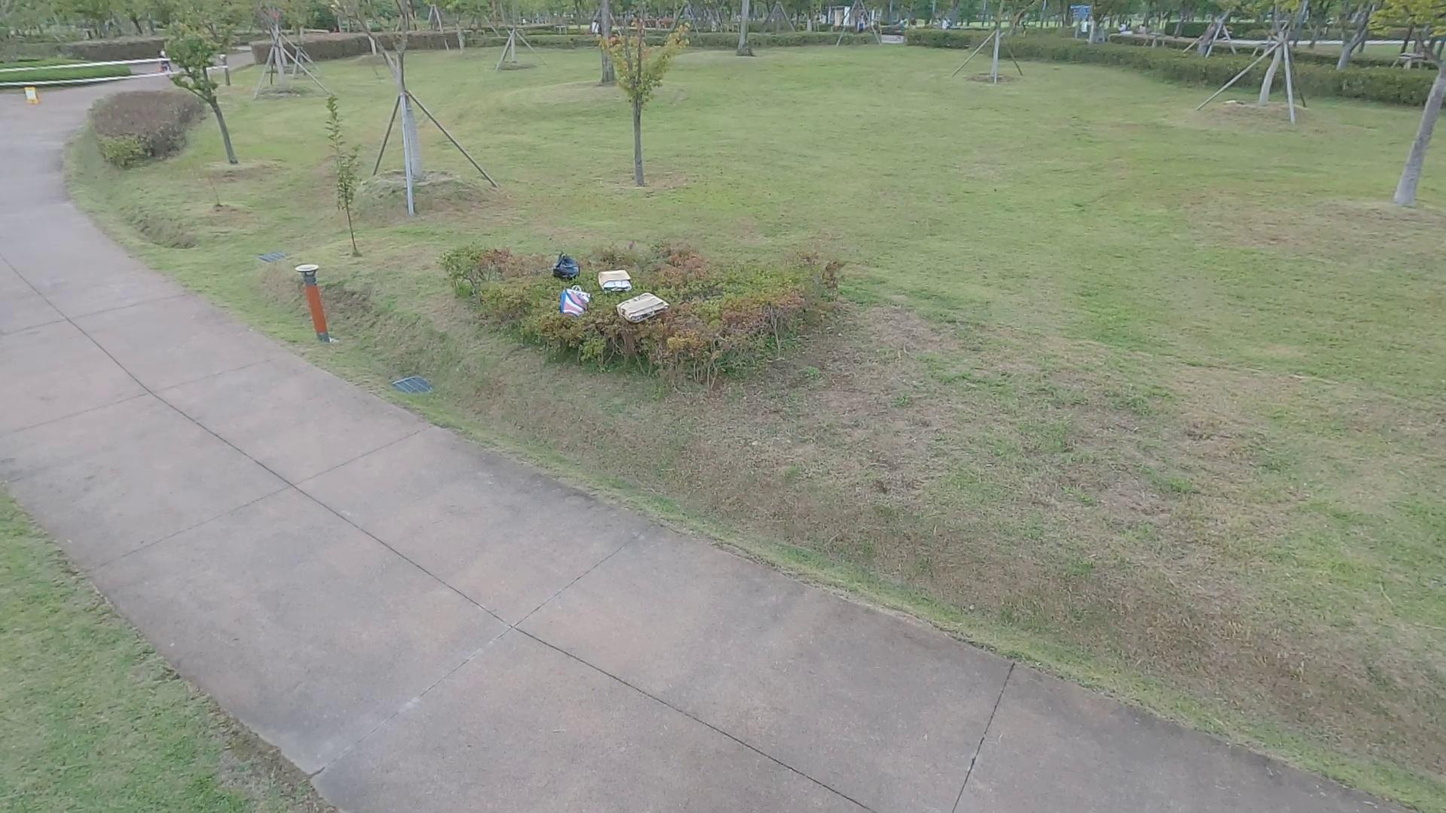trash: (617, 293, 668, 322), (561, 284, 590, 317), (553, 251, 581, 281), (597, 269, 632, 293)
